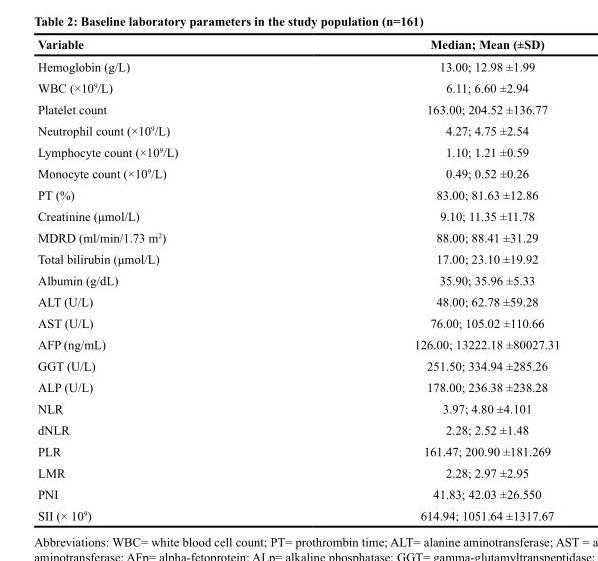table: (37, 36, 559, 522)
table column: (295, 36, 559, 522), (37, 36, 295, 522)
table column header: (37, 36, 559, 54)
table row: (37, 54, 559, 76), (37, 76, 559, 98), (37, 140, 559, 162), (37, 183, 559, 205), (37, 247, 559, 269), (37, 290, 559, 312), (37, 354, 559, 376), (37, 418, 559, 440), (37, 461, 559, 483), (37, 98, 559, 119), (37, 119, 559, 140), (37, 162, 559, 183), (37, 205, 559, 226), (37, 226, 559, 247), (37, 269, 559, 290), (37, 312, 559, 333), (37, 333, 559, 354), (37, 376, 559, 397), (37, 397, 559, 418), (37, 440, 559, 461), (37, 483, 559, 504), (37, 36, 559, 54), (37, 504, 559, 522)
